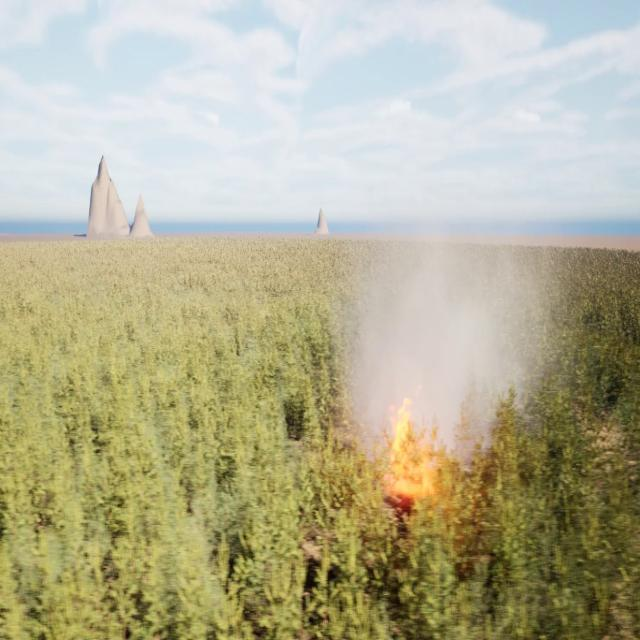fire: (378, 393, 439, 495)
smoke: (331, 216, 560, 482)
